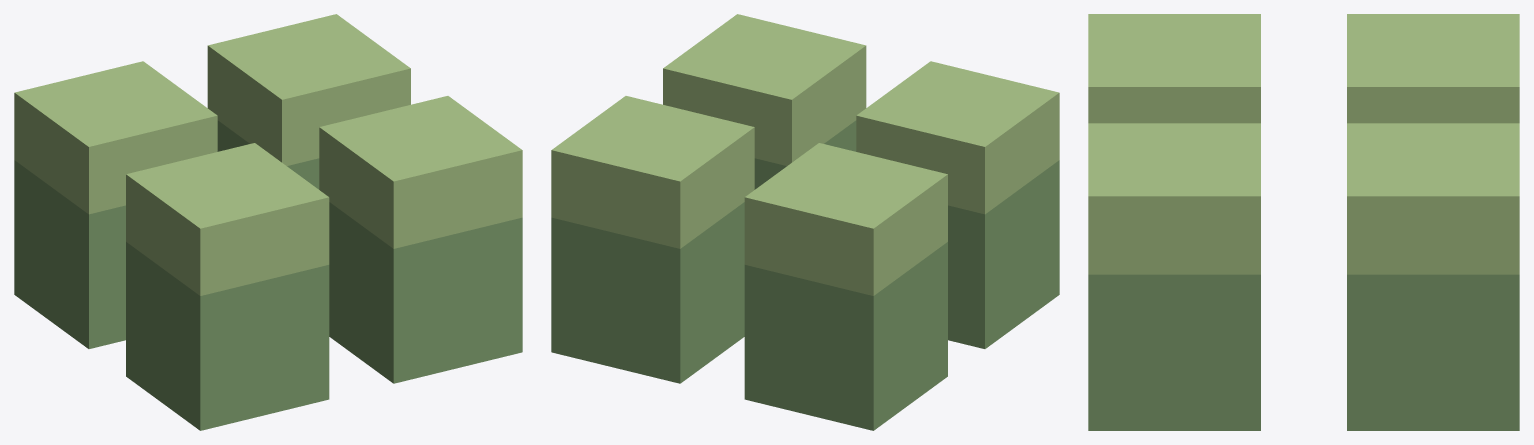
The model's file is culture_laitues.glb.
The picture shows the model from 3 angles, left to right: view 1: azimuth 30°, elevation 25°; view 2: azimuth 150°, elevation 25°; view 3: azimuth 270°, elevation 25°; orthographic projection. The views are drawn at different scales.
Visible parts, largest first — view 1: geometry_0; view 2: geometry_0; view 3: geometry_0.
Part boxes in pixels (left/top/right/bottom): geometry_0: left=14, top=14, right=522, bottom=430; geometry_0: left=551, top=14, right=1059, bottom=430; geometry_0: left=1088, top=14, right=1519, bottom=430.
Bounding box in the file's own units: 0.625 × 0.375 × 0.625.
